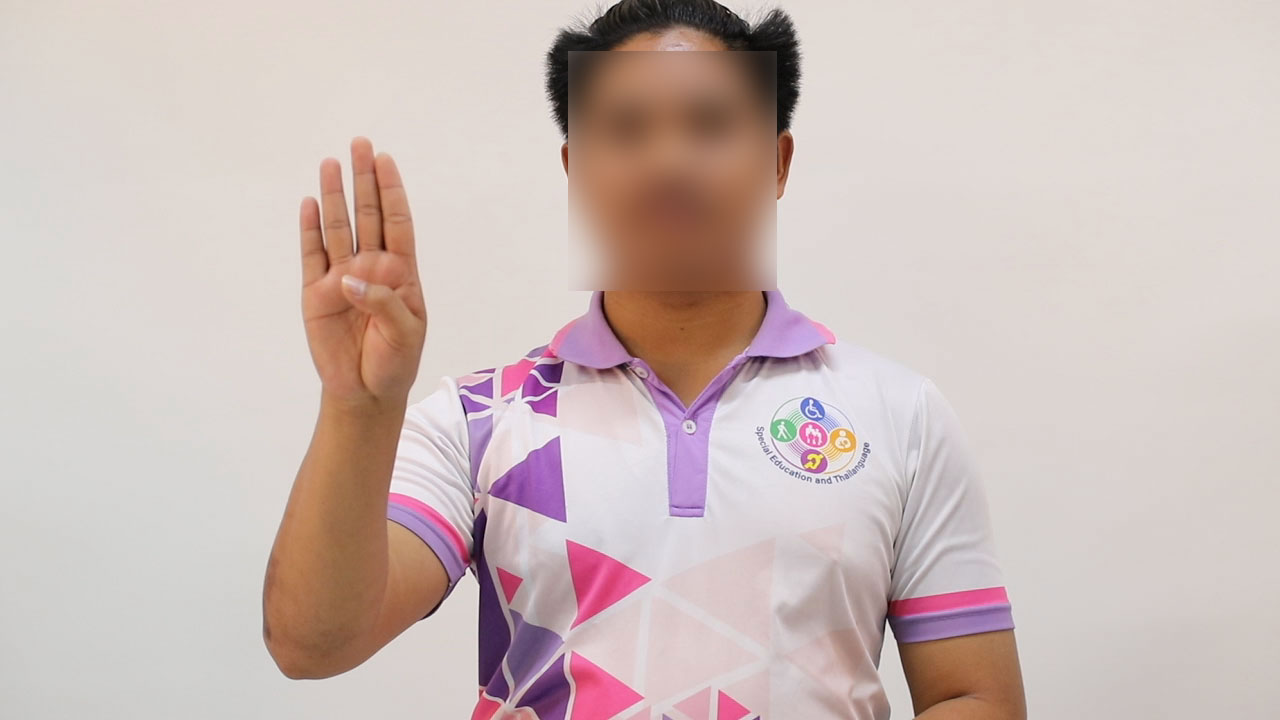bor: (284, 125, 442, 447)
